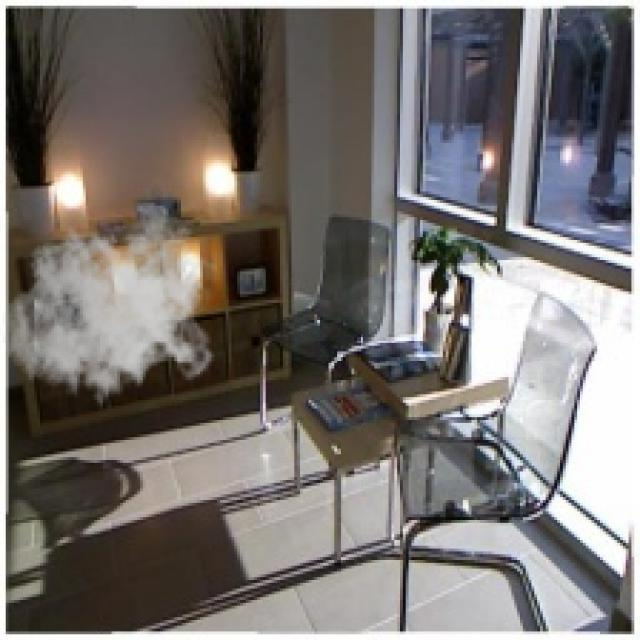Smoke: (2, 202, 218, 418)
